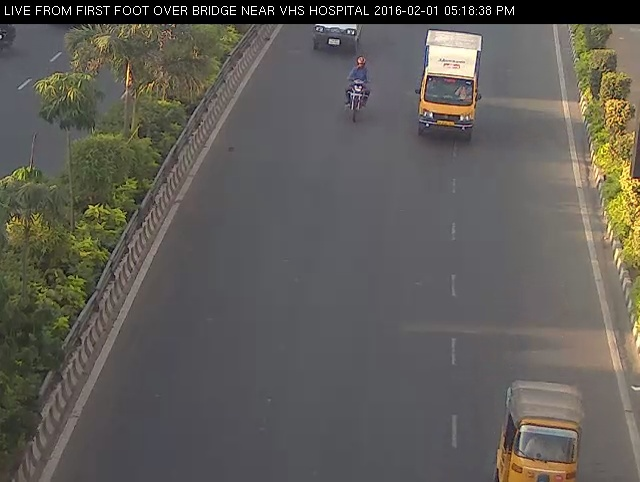Car: (482, 363, 600, 480), (409, 26, 495, 149), (306, 19, 372, 59)
Person: (340, 51, 377, 129)
